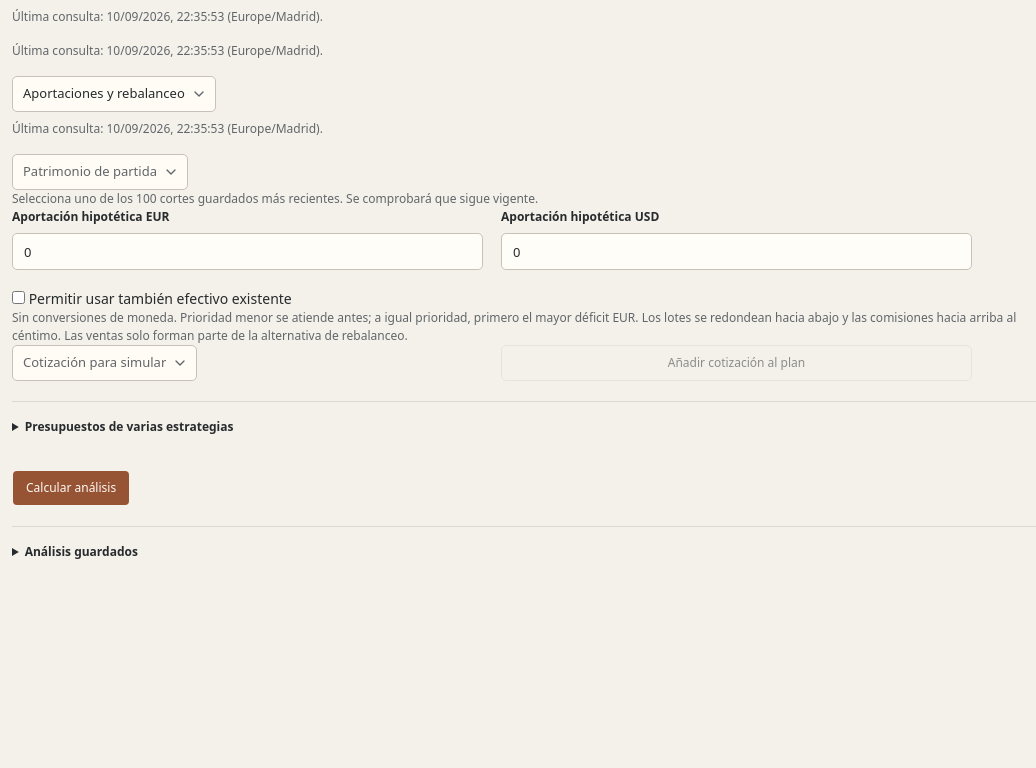
Test case: editing invalidates a reviewed plan and cannot save stale input
Step 1. Click the button "Calcular análisis" → x=71, y=488, box 12,470 -> 130,506
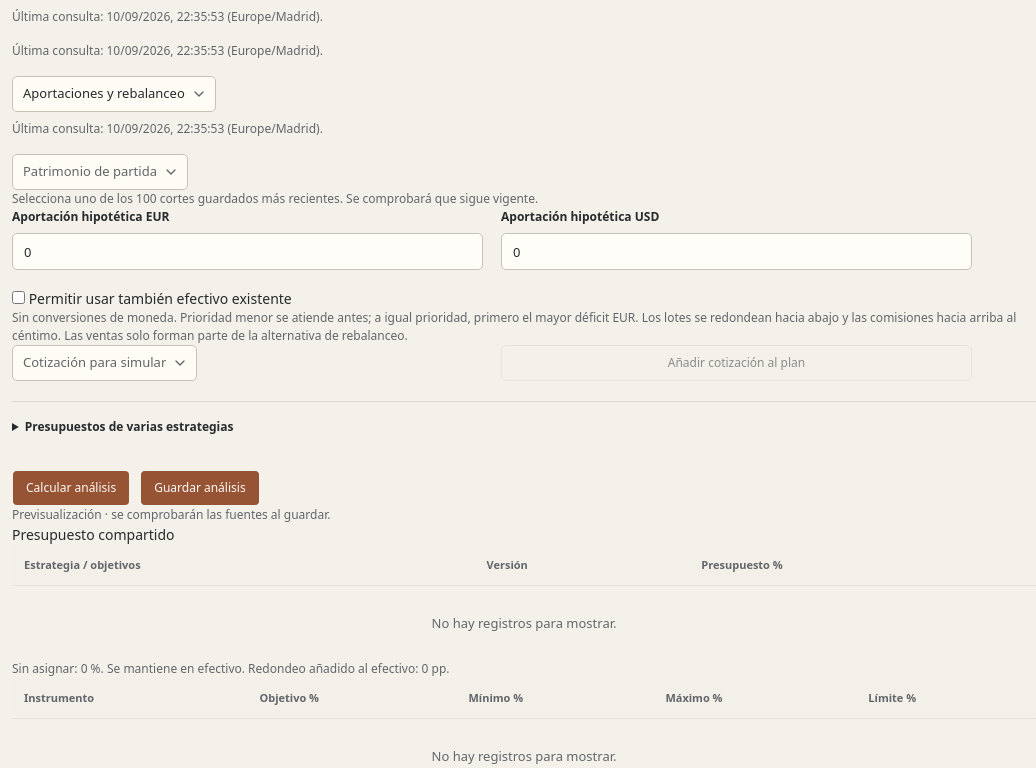
Now the button "Guardar análisis" is shown, box 140,470 -> 260,506
Step 2. Replace the text in the number field labelled "Aportación hipotética USD" with "100" → x=736, y=252, box 501,233 -> 972,270
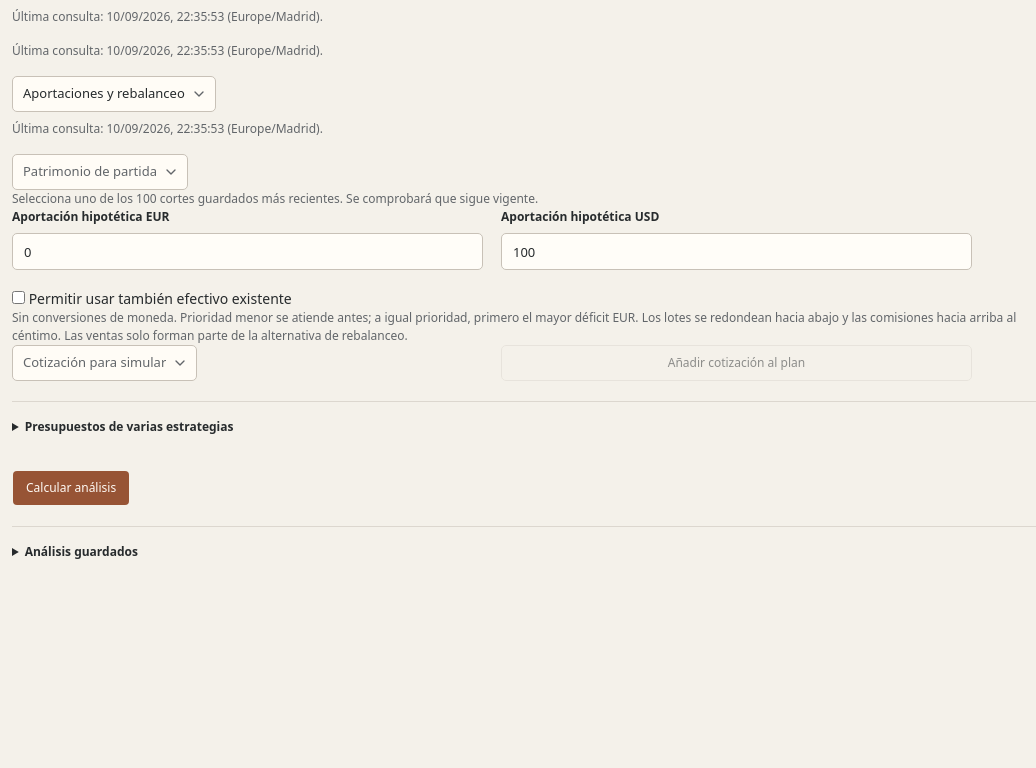
Now the button "Guardar análisis" is gone
